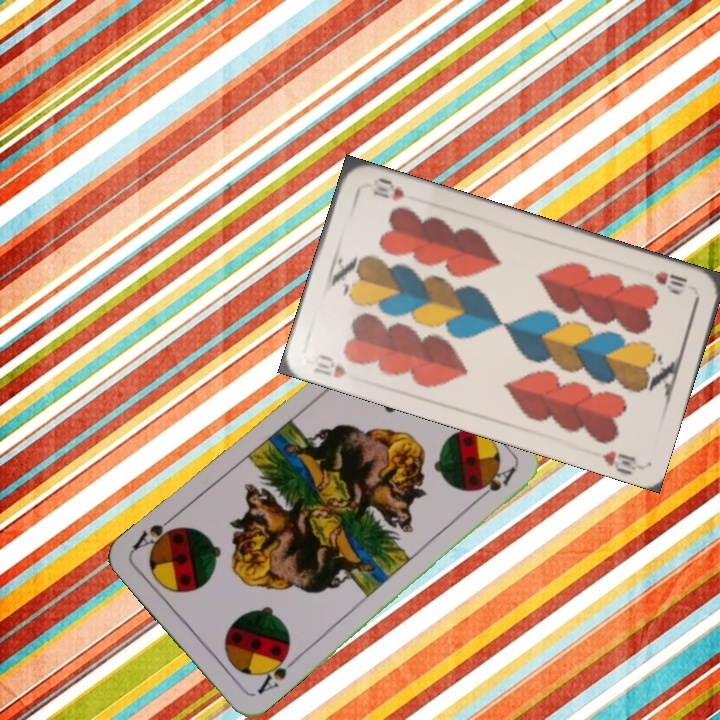H10: (309, 350, 350, 381), (650, 267, 691, 290)
SA: (253, 647, 299, 697)
